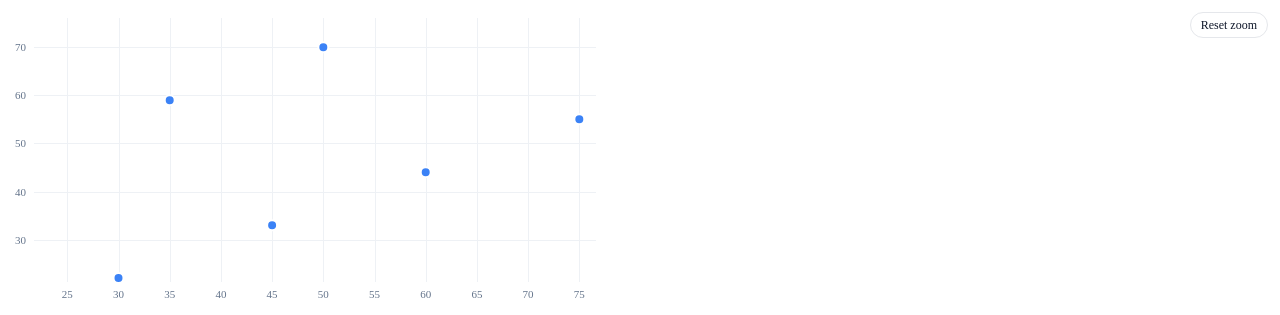
Scenario: ScatterChart zoom › zooms both axes with Ctrl + wheel only, and resets with the button
The image size is (1280, 315).
Click the button "Reset zoom" at [1229, 25], box [1190,12,1268,38]
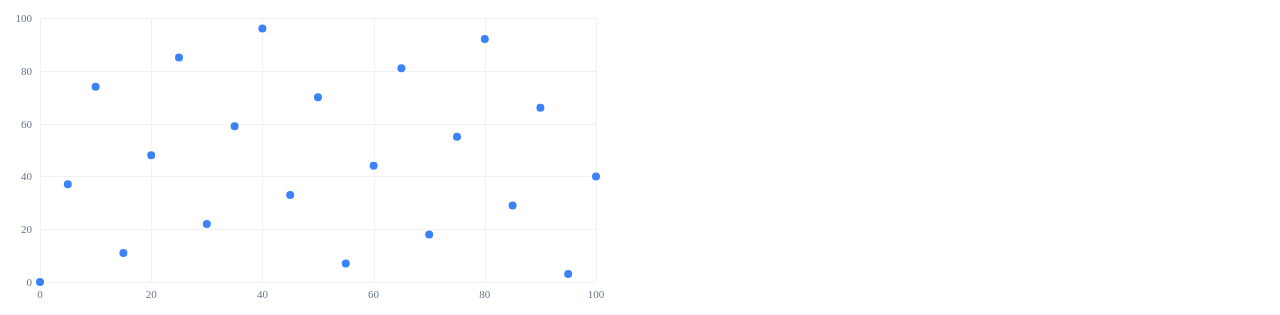
Now the button "Reset zoom" is gone
